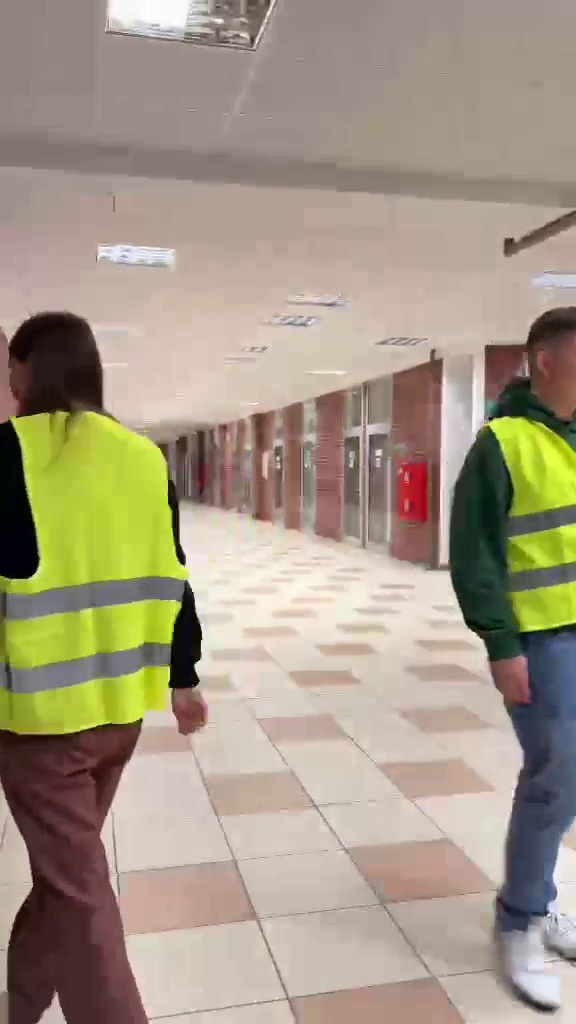vest: (0, 292, 202, 985), (449, 302, 576, 987)
